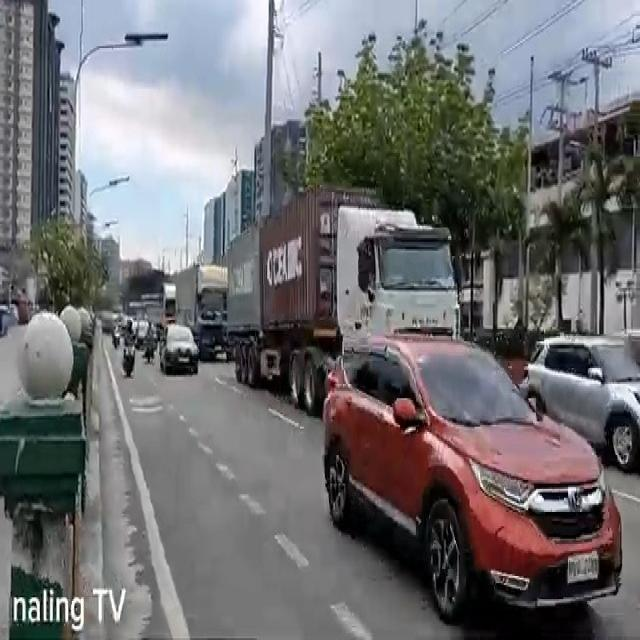car: (322, 337, 624, 621), (521, 332, 640, 479)
motorcycle: (121, 318, 138, 377)
truck: (226, 184, 464, 418), (176, 262, 230, 361)
